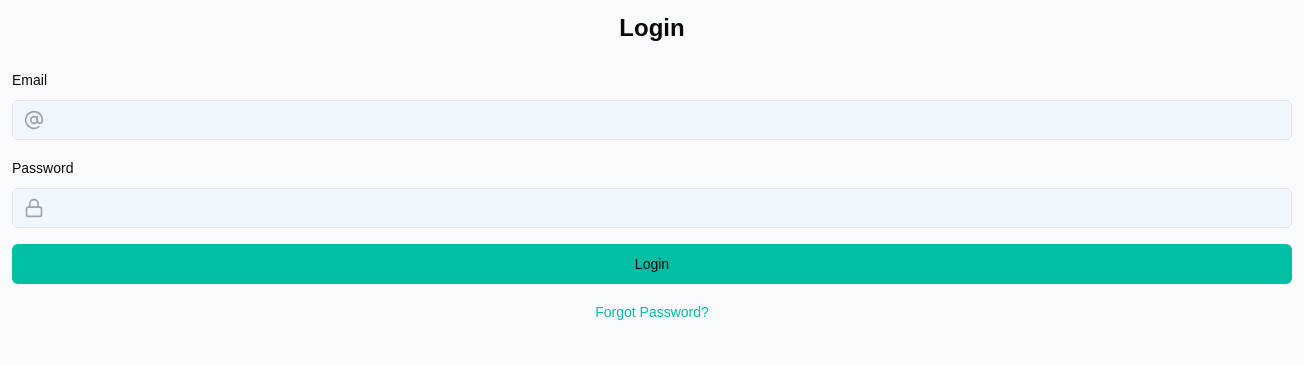
Test case: LoginForm › Validation › shows error for invalid email format on blur
The width and height of the screenshot is (1304, 365).
Type "invalid-email" into the field labelled "Email".
click(652, 120); type("invalid-email")  # box [12,100,1292,140]
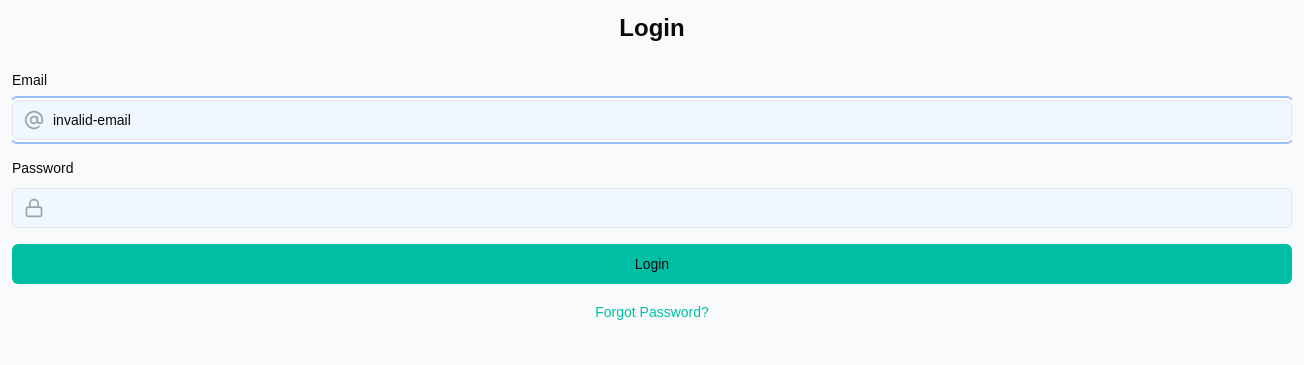
Leave the field labelled "Email", box [12,100,1292,140]
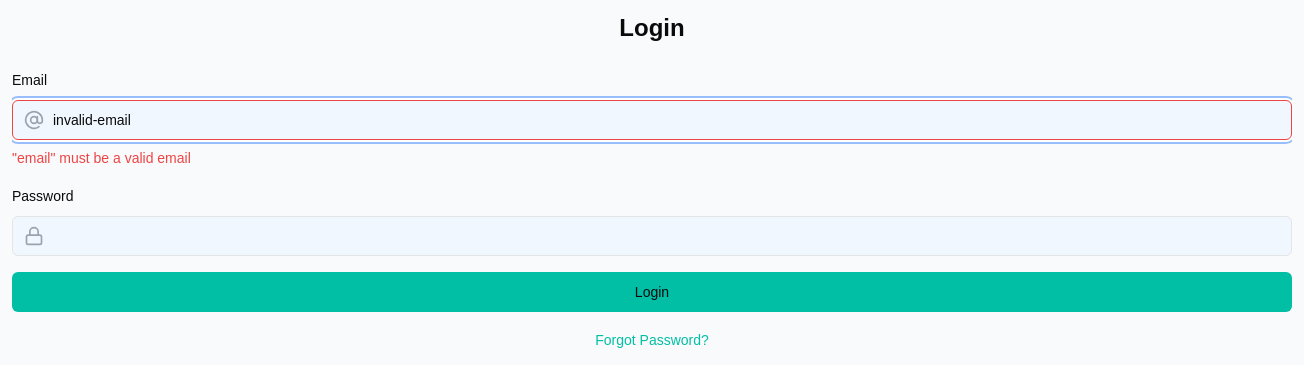
Now the text "\"email\" must be a valid email" is shown, box [12,150,191,166]
